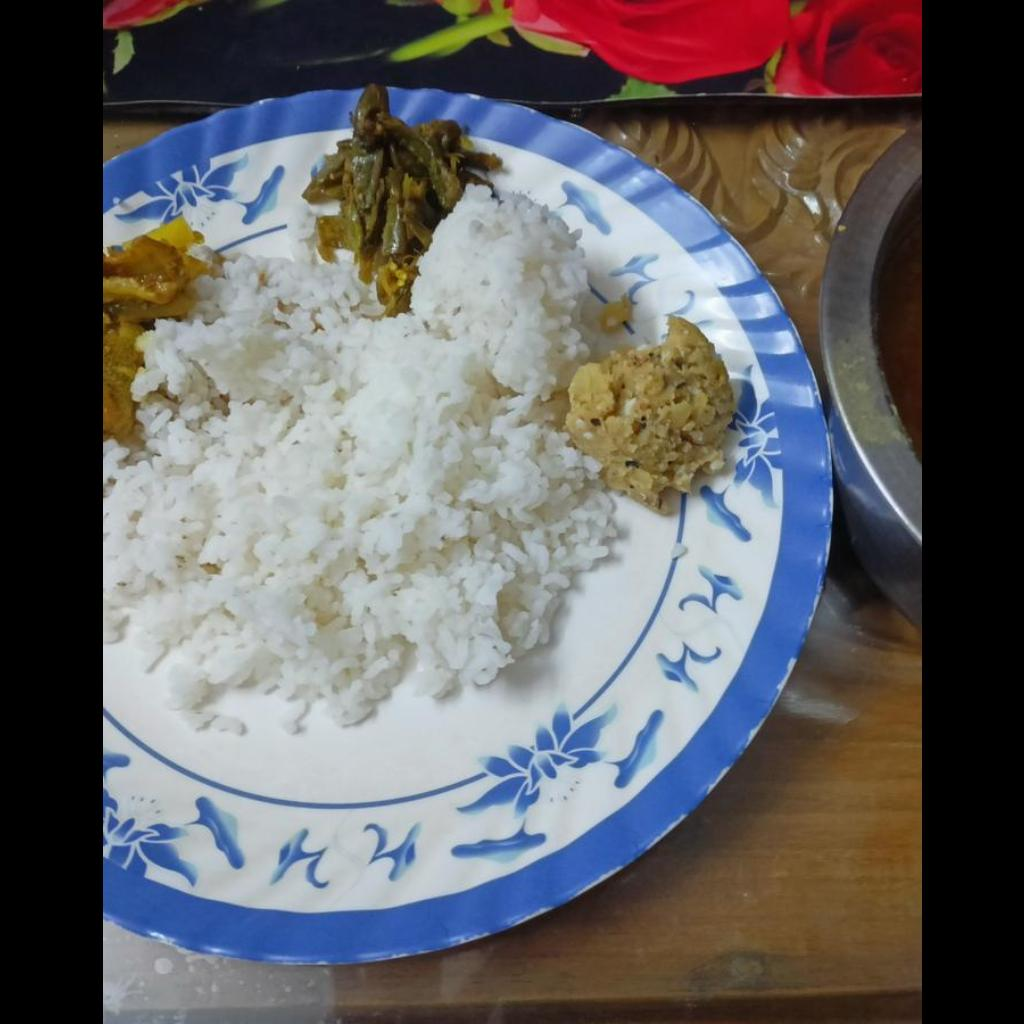rice: (102, 199, 612, 732)
vaji: (306, 89, 490, 303)
vegetable: (102, 221, 221, 441)
vorta: (564, 307, 729, 514)
